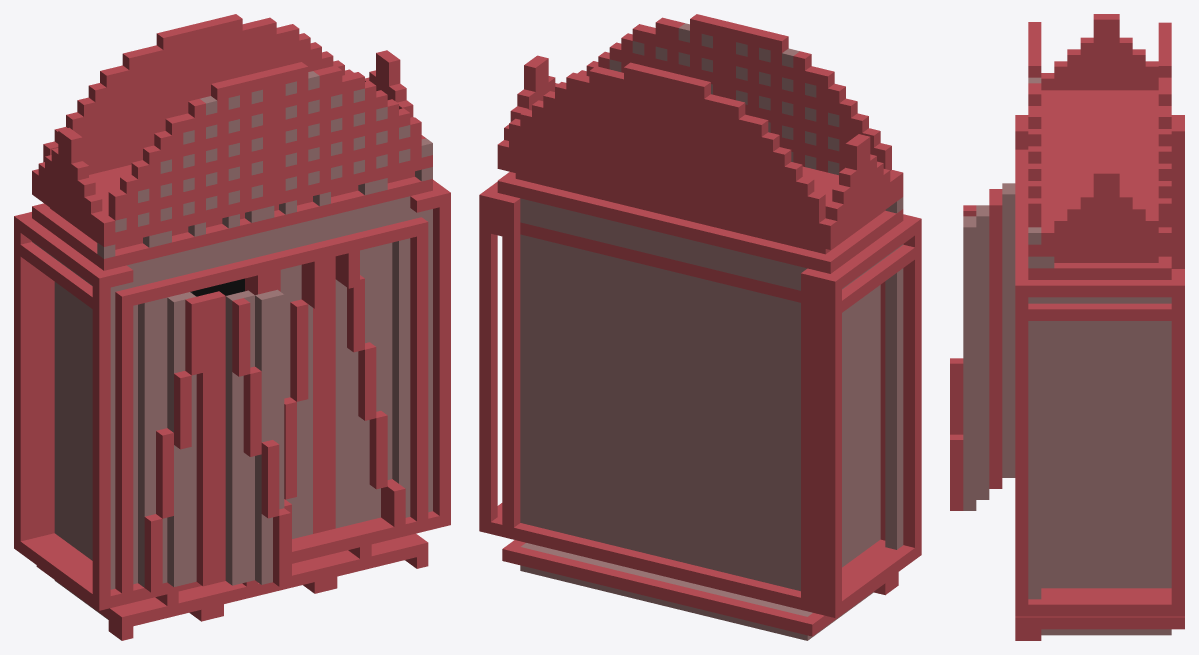
The model's file is closet.obj.
3 views of the same model, side by side, from view 1: azimuth 30°, elevation 25°; view 2: azimuth 150°, elevation 25°; view 3: azimuth 270°, elevation 25° (orthographic).
Visible parts, largest first — view 1: closet; view 2: closet; view 3: closet.
Boxes of the visible parts, x1,y1,x2,y2 form: closet: (14, 14, 450, 640); closet: (479, 14, 921, 640); closet: (950, 14, 1184, 640).
Bounding box in the file's own units: 31 × 44 × 18.
Materials: 1 (1 with a texture image).
